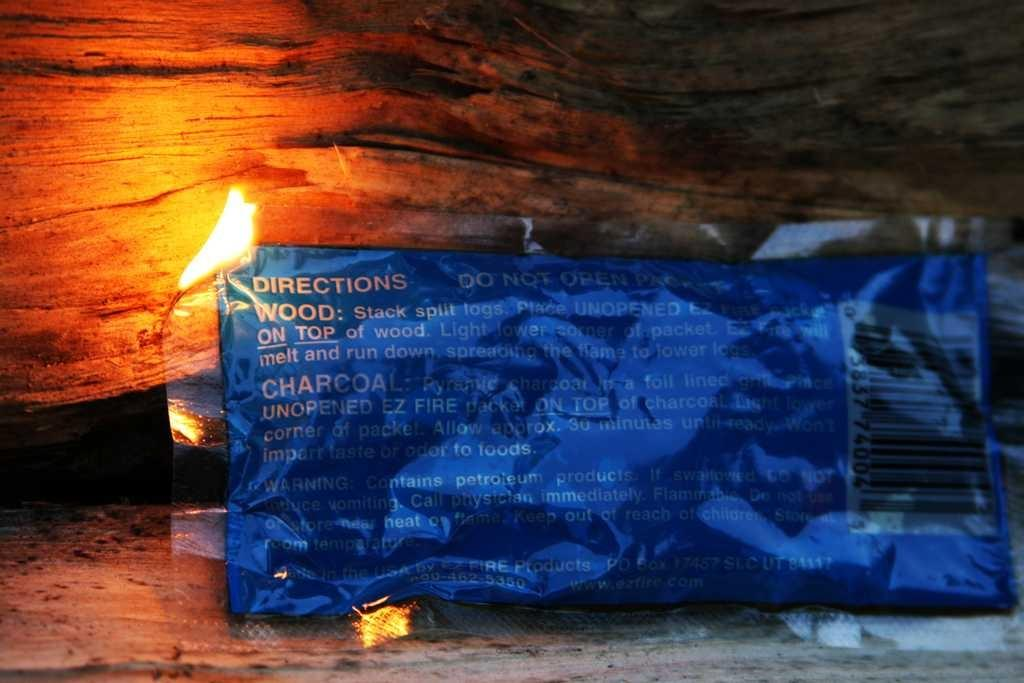fire: (175, 193, 270, 288)
